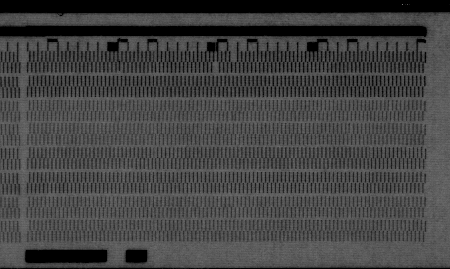Broken hole: (227, 50, 240, 63), (210, 61, 222, 75)
Oblique printing: (115, 60, 126, 75)
